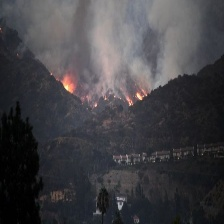fire: (122, 90, 146, 112), (60, 78, 69, 95)
smoke: (21, 1, 214, 86)
